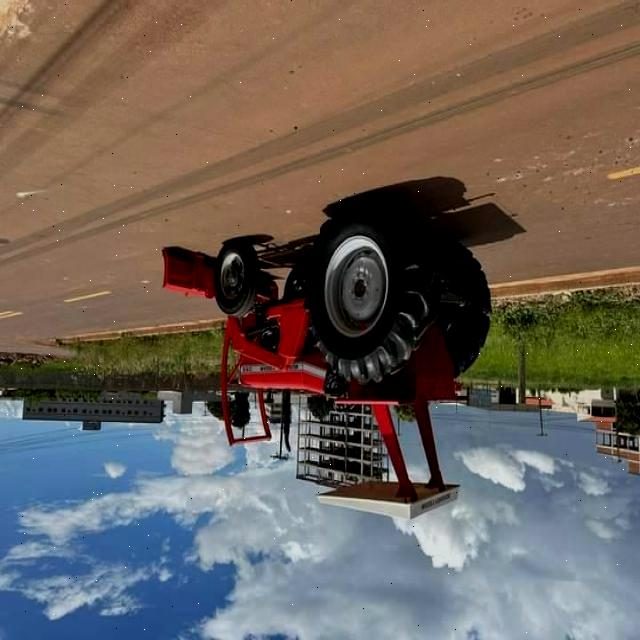Tratores - v5 YOLO V8L 2024-11-13: (211, 188, 494, 524)
